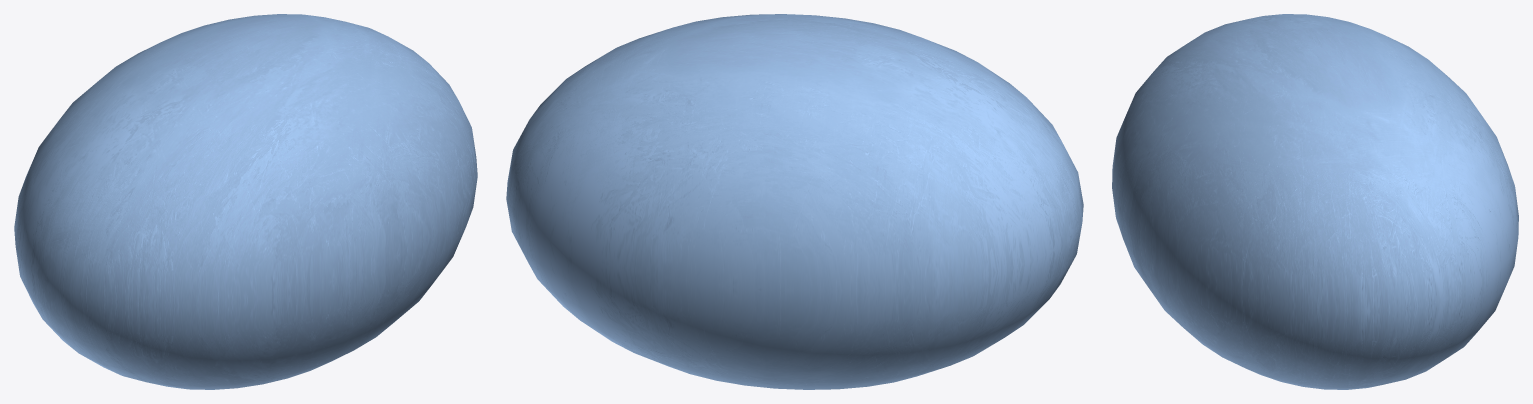
File: bleu1.FBX
The picture shows the model from 3 angles, left to right: view 1: azimuth 30°, elevation 25°; view 2: azimuth 150°, elevation 25°; view 3: azimuth 270°, elevation 25°; orthographic projection. The views are drawn at different scales.
Parts seen in each view (by area): view 1: Sphère005; view 2: Sphère005; view 3: Sphère005.
Boxes of the visible parts, box(x1,y1,x2,y2) form: Sphère005: box(14, 14, 477, 389); Sphère005: box(506, 14, 1083, 389); Sphère005: box(1112, 14, 1518, 389).
Size of the model in its own units: 3.08 by 2 by 2.41.
Materials: 1 (1 with a texture image).
